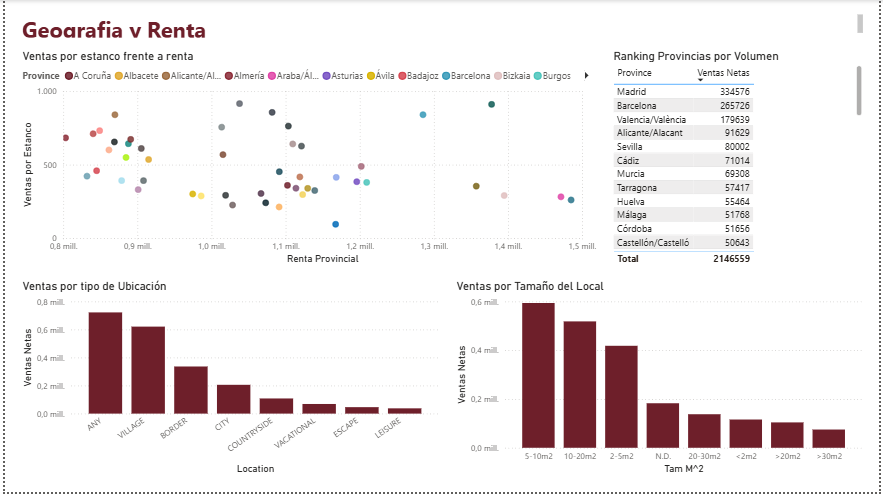

This screenshot's page, from the dashboard's own definition file:
{"tool":"powerbi","page":{"name":"Geografia y Renta","canvas":[1280,720],"ordinal":1},"visuals":[{"type":"scatterChart","title":"Ventas por estanco frente a renta","fields":{"X":["TablaMaestra5.Renta Provincial"],"Y":["TablaMaestra5.Ventas por Estanco"],"Series":["TablaMaestra5.Province"]},"box":[20,72,850,320],"z":0},{"type":"tableEx","title":"Ranking Provincias por Volumen","fields":{"Values":["TablaMaestra5.Province","TablaMaestra5.Ventas Netas"]},"box":[886,72,374,320],"z":1000},{"type":"clusteredColumnChart","title":"Ventas por tipo de Ubicación ","fields":{"Category":["TablaMaestra5.Location"],"Y":["TablaMaestra5.Ventas Netas"]},"box":[20,408,620,290],"z":2000},{"type":"clusteredColumnChart","title":"Ventas por Tamaño del Local","fields":{"Category":["TablaMaestra5.Tam M^2"],"Y":["TablaMaestra5.Ventas Netas"]},"box":[656,408,604,290],"z":3000},{"type":"textbox","box":[20,16,1240,44],"z":4000}]}

Visuals, with their boxes in screenshot pixels (x1, y1, x2, y2), scaled from the page's 1280x720 canvas onto the 883x494 screenshot:
"Ventas por estanco frente a renta" scatterChart: 14,49,600,269
"Ranking Provincias por Volumen" tableEx: 611,49,869,269
"Ventas por tipo de Ubicación " clusteredColumnChart: 14,280,442,479
"Ventas por Tamaño del Local" clusteredColumnChart: 453,280,869,479
textbox: 14,11,869,41
